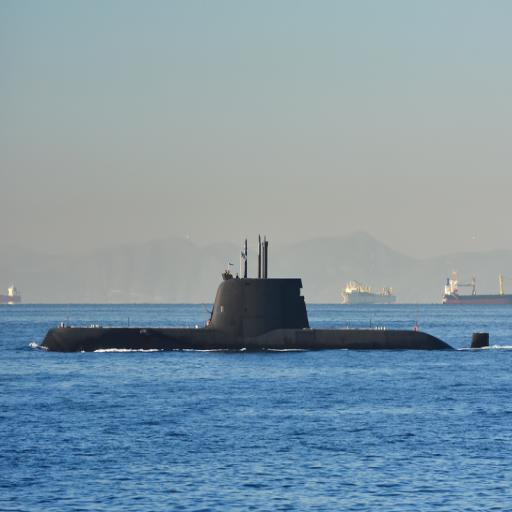submarine: (32, 234, 489, 353)
